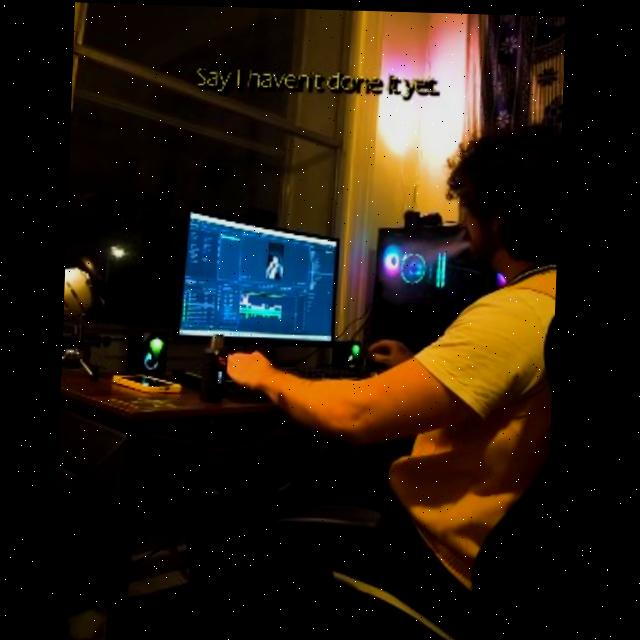vape: (201, 332, 230, 402)
